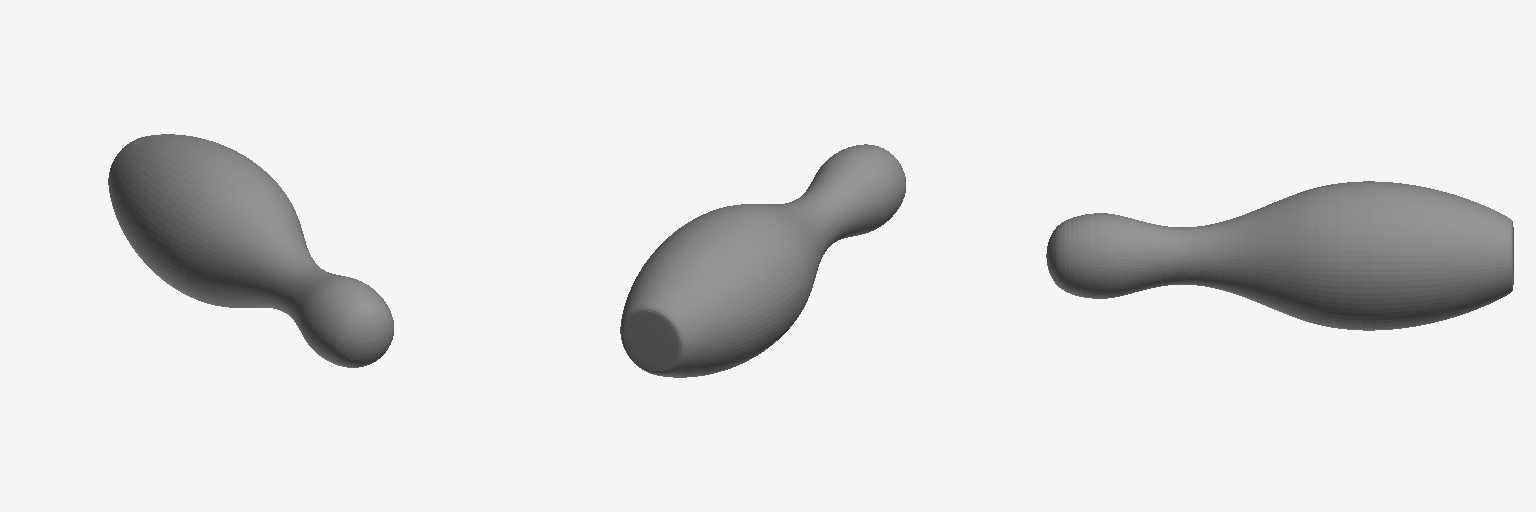
The model's file is bowling_pin.obj.
The picture shows the model from 3 angles: view 1: azimuth 30°, elevation 25°; view 2: azimuth 150°, elevation 25°; view 3: azimuth 270°, elevation 25°; orthographic projection.
Bounding box in the file's own units: 12.09 × 12.09 × 37.87.